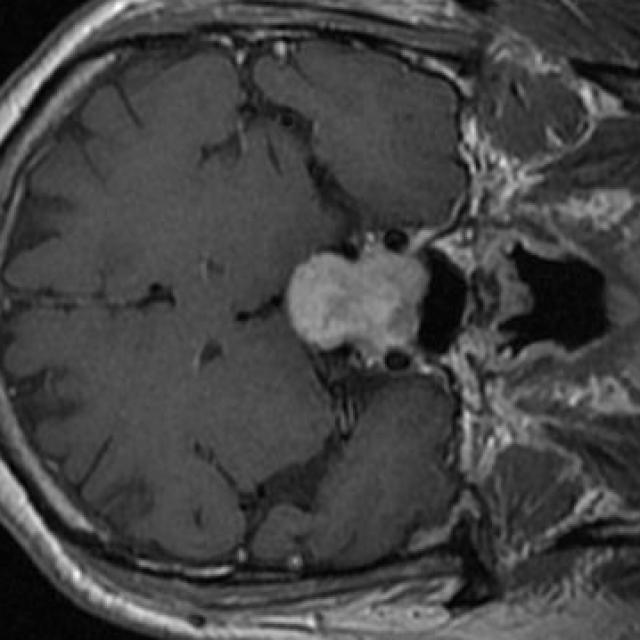pituitary: (283, 244, 430, 351)
